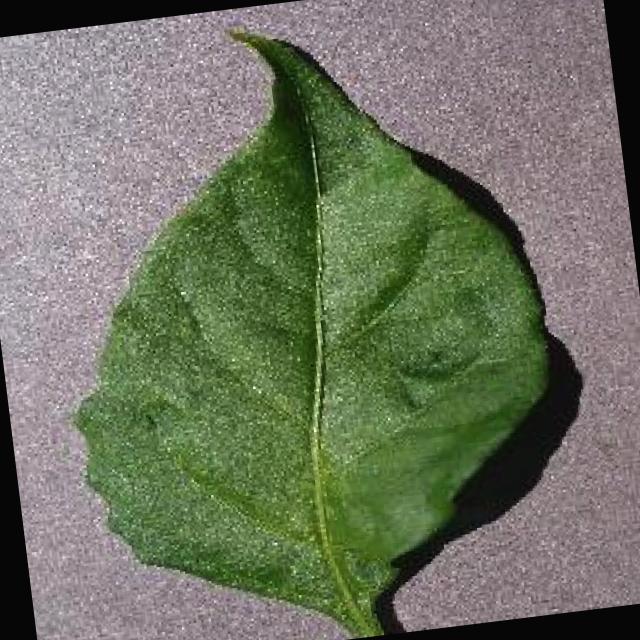Leaf: (49, 58, 574, 548)
